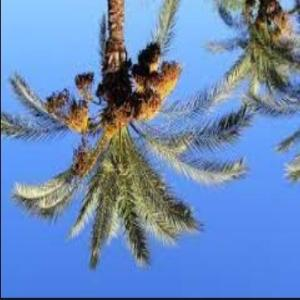palm tree: (0, 0, 253, 270)
